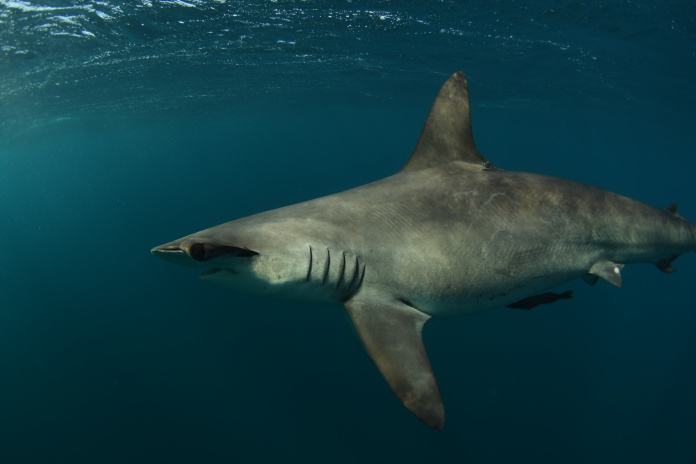Hammer: (108, 55, 696, 439)
